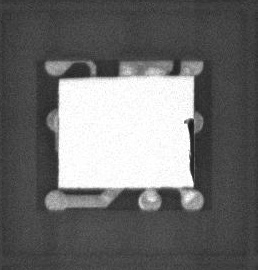DIE_BROKEN: (183, 116, 196, 184)
